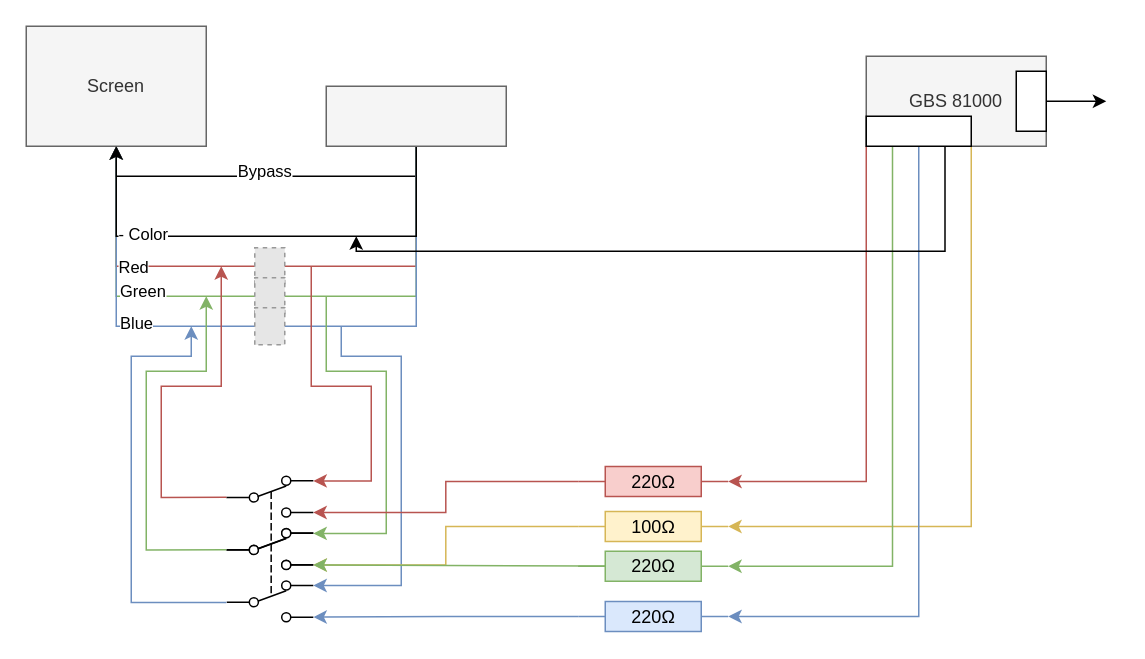
The diagram is 1145 pixels wide and 659 high, and some of its shapes have lost their labels. Grey dashed boxes stand in for pictures. Each missing label, with the box of its shape:
Car Radio Carminat: (325, 85, 506, 146)
CGA: (865, 115, 971, 146)
VGA: (1015, 70, 1046, 131)
